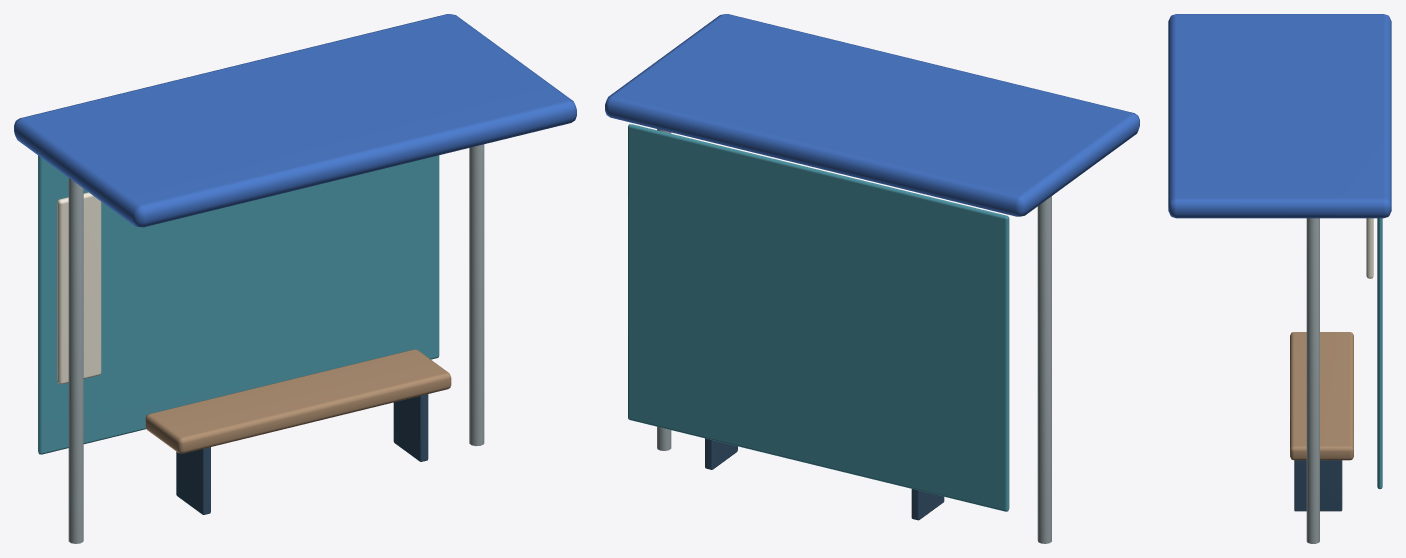
File: HL_BusStop_Coast.fbx
3 views of the same model, side by side, from view 1: azimuth 30°, elevation 25°; view 2: azimuth 150°, elevation 25°; view 3: azimuth 270°, elevation 25° (orthographic). The views are drawn at different scales.
Parts seen in each view (by area): view 1: Shelter | sea glass back, Shelter | cobalt canopy, Shelter | bench slab, Shelter | support, Shelter | route board, Shelter | support.001, Shelter | bench leg.001, Shelter | bench leg; view 2: Shelter | sea glass back, Shelter | cobalt canopy, Shelter | support, Shelter | bench leg, Shelter | bench leg.001; view 3: Shelter | cobalt canopy, Shelter | bench slab, Shelter | support.001, Shelter | bench leg.001, Shelter | sea glass back, Shelter | route board.
Part boxes in pixels (bbox=[...]): Shelter | sea glass back: bbox=[38, 155, 439, 454]; Shelter | cobalt canopy: bbox=[14, 14, 576, 227]; Shelter | bench slab: bbox=[145, 349, 451, 453]; Shelter | support: bbox=[68, 178, 83, 543]; Shelter | route board: bbox=[57, 192, 101, 384]; Shelter | support.001: bbox=[469, 144, 484, 446]; Shelter | bench leg.001: bbox=[393, 394, 428, 461]; Shelter | bench leg: bbox=[176, 447, 210, 514]; Shelter | sea glass back: bbox=[628, 124, 1009, 511]; Shelter | cobalt canopy: bbox=[605, 14, 1139, 216]; Shelter | support: bbox=[1037, 196, 1051, 543]; Shelter | bench leg: bbox=[911, 489, 944, 520]; Shelter | bench leg.001: bbox=[705, 438, 737, 469]; Shelter | cobalt canopy: bbox=[1168, 14, 1391, 218]; Shelter | bench slab: bbox=[1290, 332, 1353, 460]; Shelter | support.001: bbox=[1306, 218, 1319, 543]; Shelter | bench leg.001: bbox=[1294, 460, 1342, 511]; Shelter | sea glass back: bbox=[1377, 218, 1382, 488]; Shelter | route board: bbox=[1366, 218, 1373, 278].
Bounding box in the file's own units: 365 × 312 × 181.
